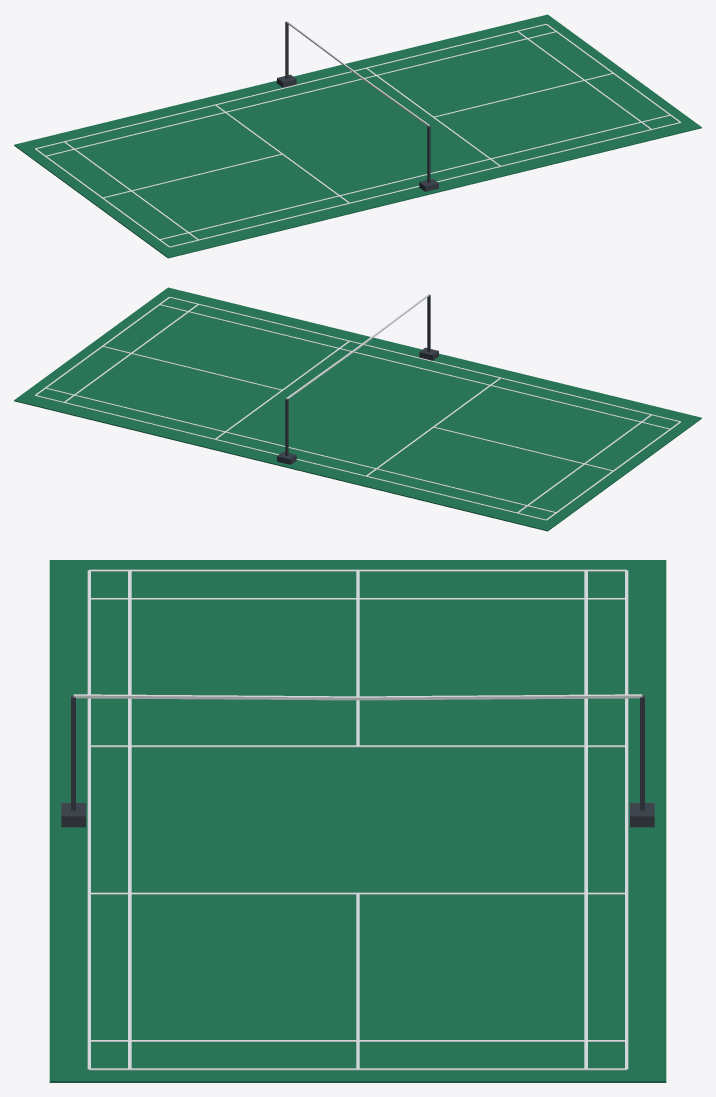
Rendered from court-badminton.glb.
3 views of the same model, one above another, from view 1: azimuth 30°, elevation 25°; view 2: azimuth 150°, elevation 25°; view 3: azimuth 270°, elevation 25° (orthographic). The views are drawn at different scales.
Visible parts, largest first — view 1: court-surface, court-marking (×4); view 2: court-surface, court-marking (×4); view 3: court-surface, court-marking (×10), net-top-tape (×2).
Boxes of the visible parts, bbox=[...] form: court-surface: bbox=[14, 14, 701, 258]; court-marking (×4): bbox=[35, 24, 680, 247]; court-surface: bbox=[14, 287, 701, 531]; court-marking (×4): bbox=[35, 297, 680, 520]; court-surface: bbox=[49, 560, 666, 1082]; court-marking (×10): bbox=[87, 569, 628, 1070]; net-top-tape (×2): bbox=[73, 694, 642, 700].
Size of the model in its own units: 14 by 1.6 by 7.
